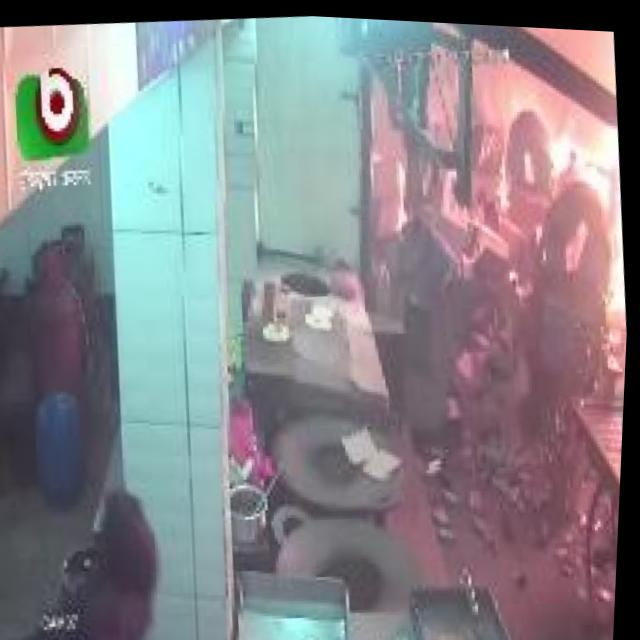fire: (518, 88, 625, 201), (598, 191, 633, 320)
